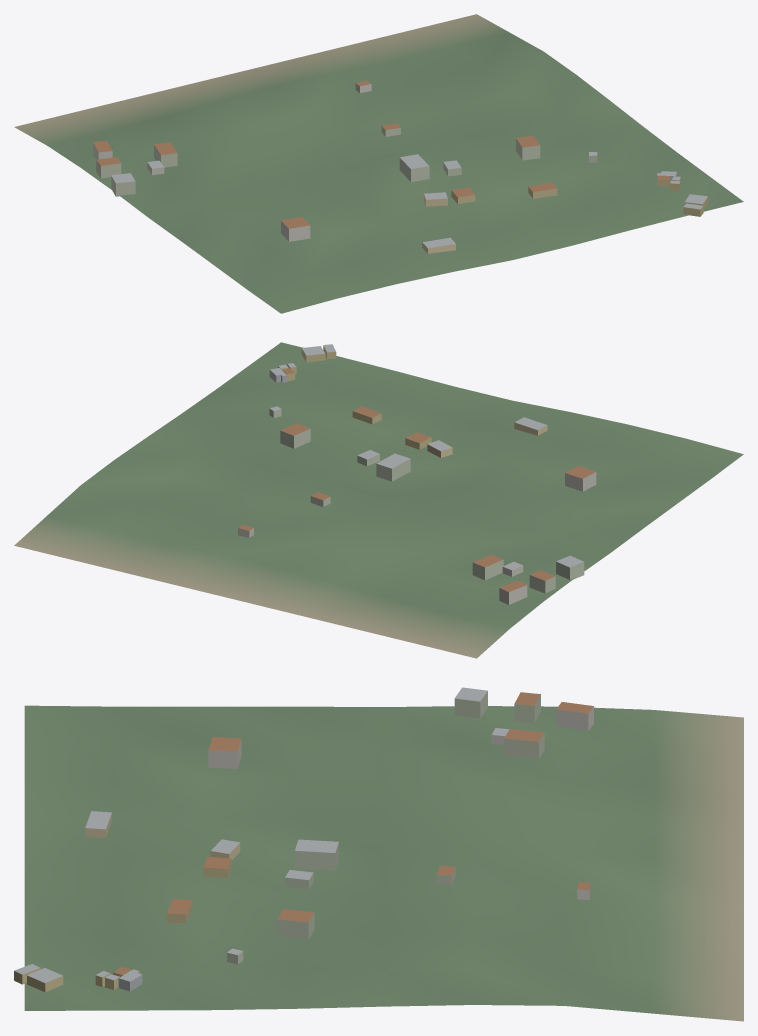
The picture shows the model from 3 angles, top to bottom: view 1: azimuth 30°, elevation 25°; view 2: azimuth 150°, elevation 25°; view 3: azimuth 270°, elevation 25°; orthographic projection. The views are drawn at different scales.
Parts seen in each view (by area): view 1: Lo; view 2: Lo; view 3: Lo.
Part boxes in pixels (box(x1,y1,x2,y2)): Lo: box(14, 14, 743, 313); Lo: box(14, 342, 743, 658); Lo: box(14, 687, 743, 1021).
Bounding box in the file's own units: 258 × 12.45 × 260.
